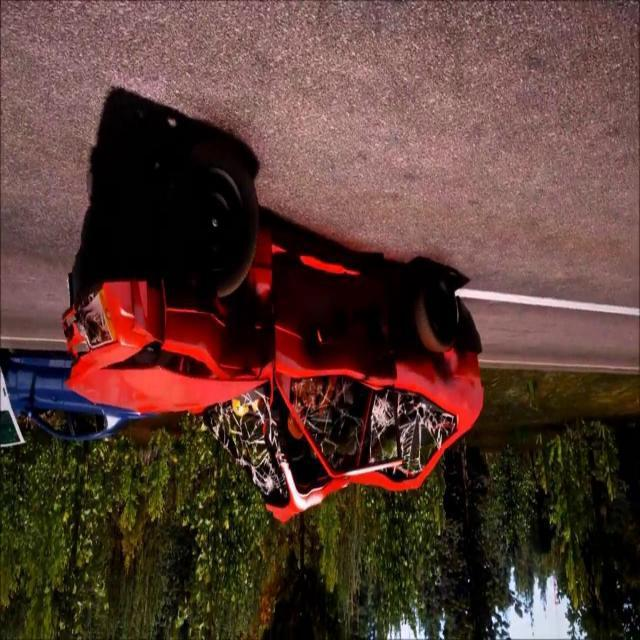severe: (59, 133, 484, 528)
